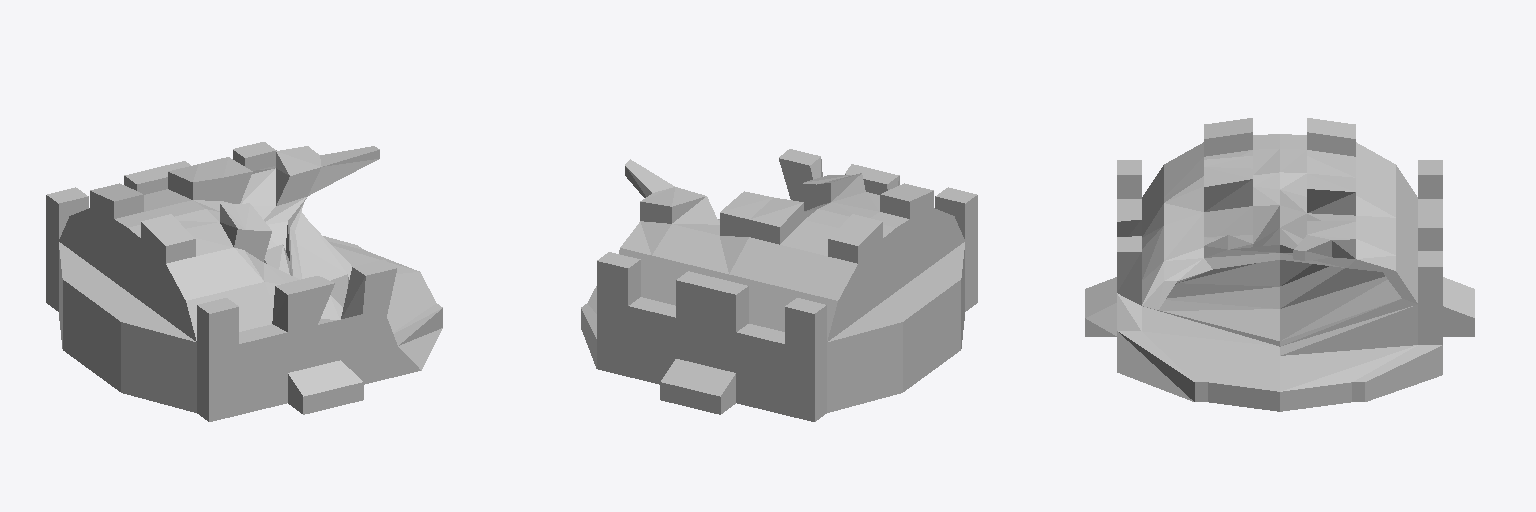
Rendered from DestroyedBuilding.obj.
3 renders of one model, left to right at view 1: azimuth 30°, elevation 25°; view 2: azimuth 150°, elevation 25°; view 3: azimuth 270°, elevation 25°, orthographic.
Size of the model in its own units: 13.99 by 6.18 by 14.38.